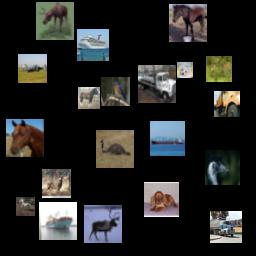airplane: (18, 54, 47, 83)
bird: (96, 130, 134, 168), (205, 150, 240, 185), (101, 77, 130, 106)
deer: (84, 205, 122, 243), (36, 2, 74, 40), (42, 169, 71, 198), (206, 56, 232, 82)
dog: (144, 182, 179, 217), (177, 62, 193, 78)
ship: (39, 202, 77, 240), (150, 121, 185, 156), (77, 29, 109, 61)
truck: (138, 65, 176, 103), (210, 211, 242, 243), (214, 91, 240, 117)
